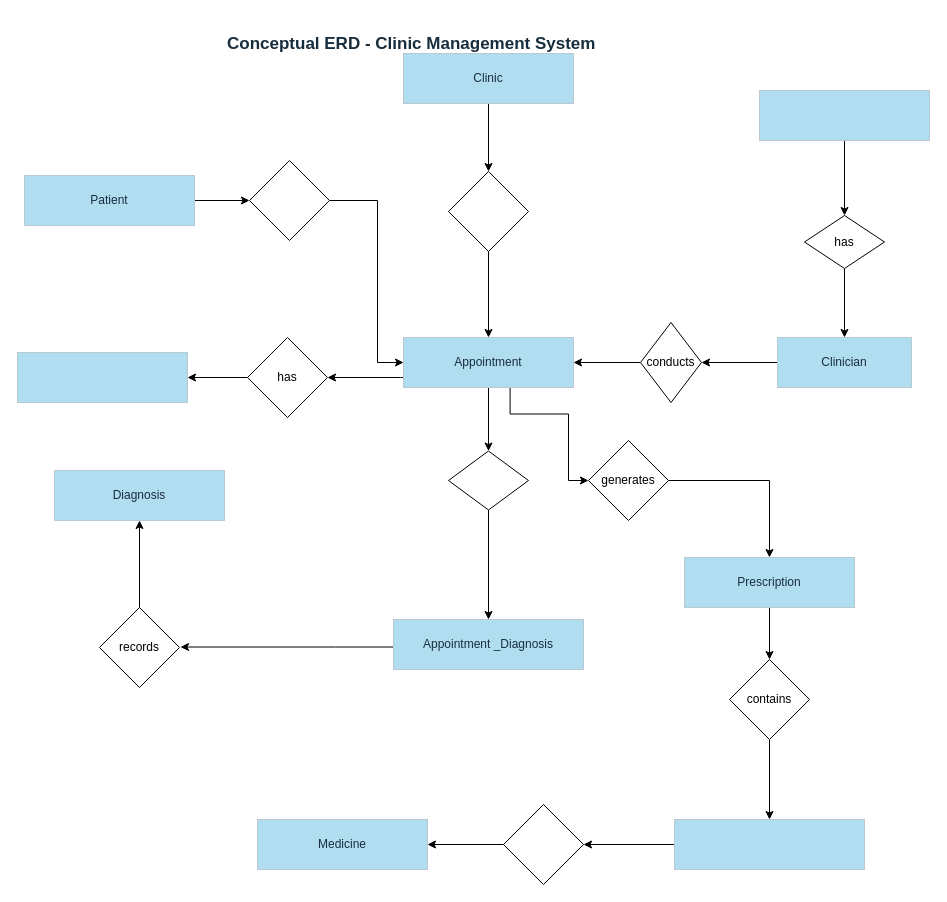
This 947x902 diagram has some shape labels left out. The shapes that lost their labels are listed below. From the top down, each one's centre as x and y in pixels, then its label:
[844,115]: Specialty
[289,200]: attends
[488,211]: arrange
[102,377]: Follow _UP
[488,480]: has dignosis record
[543,844]: specify
[769,844]: Prescription_Item
